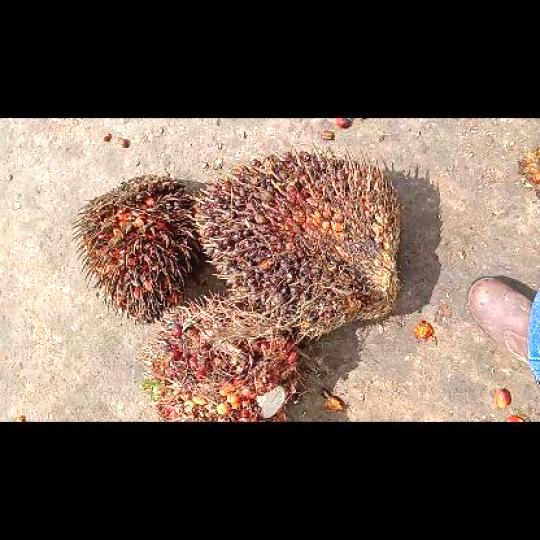kurang masak: (200, 147, 400, 331)
masak: (152, 303, 302, 421)
terlalu masak: (74, 176, 199, 320)
